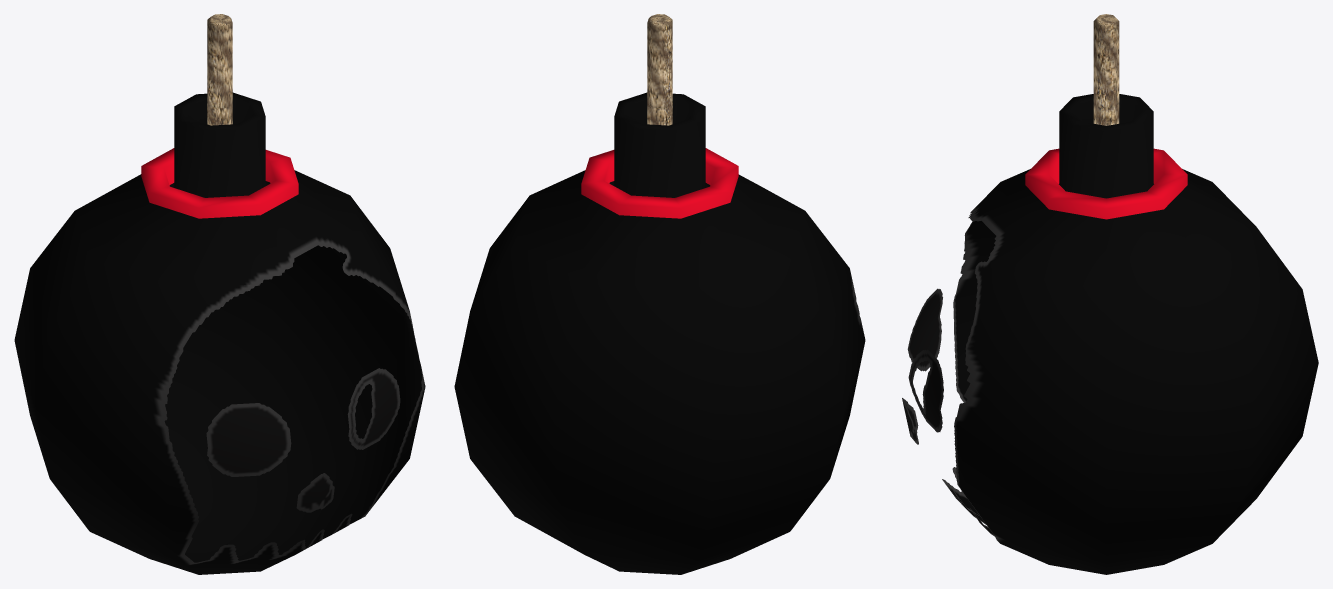
The model's file is bomb2.dae.
3 renders of one model, left to right at view 1: azimuth 30°, elevation 25°; view 2: azimuth 150°, elevation 25°; view 3: azimuth 270°, elevation 25°, orthographic.
Visible parts, largest first — view 1: Sphere; view 2: Sphere; view 3: Sphere.
Boxes of the visible parts, box(x1,y1,x2,y2) form: Sphere: box(14, 14, 425, 574); Sphere: box(454, 14, 865, 574); Sphere: box(902, 14, 1318, 574).
Bounding box in the file's own units: 2 × 2 × 2.79.
